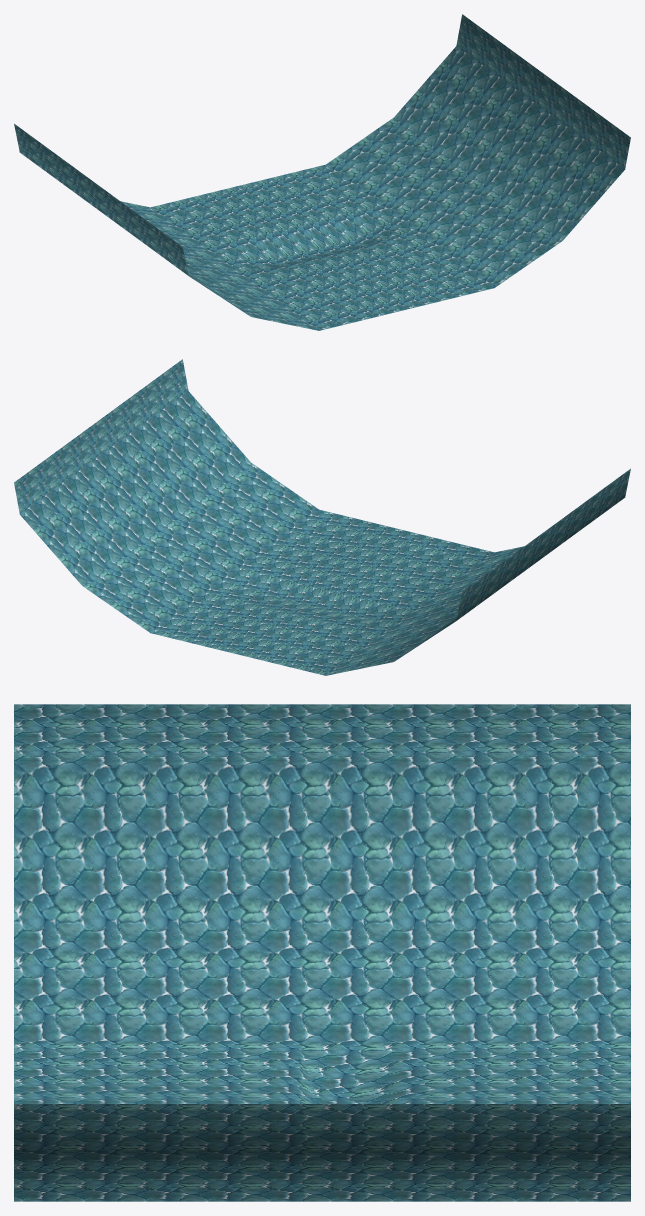
Rendered from plane_big_pit.FBX.
The picture shows the model from 3 angles, top to bottom: view 1: azimuth 30°, elevation 25°; view 2: azimuth 150°, elevation 25°; view 3: azimuth 270°, elevation 25°; orthographic projection. The views are drawn at different scales.
Parts seen in each view (by area): view 1: Plane001; view 2: Plane001; view 3: Plane001.
Part boxes in pixels (bbox=[...]): Plane001: bbox=[14, 14, 630, 330]; Plane001: bbox=[14, 359, 630, 675]; Plane001: bbox=[14, 704, 630, 1201].
Bounding box in the file's own units: 90.55 × 24.21 × 59.06.
Materials: 1 (1 with a texture image).
